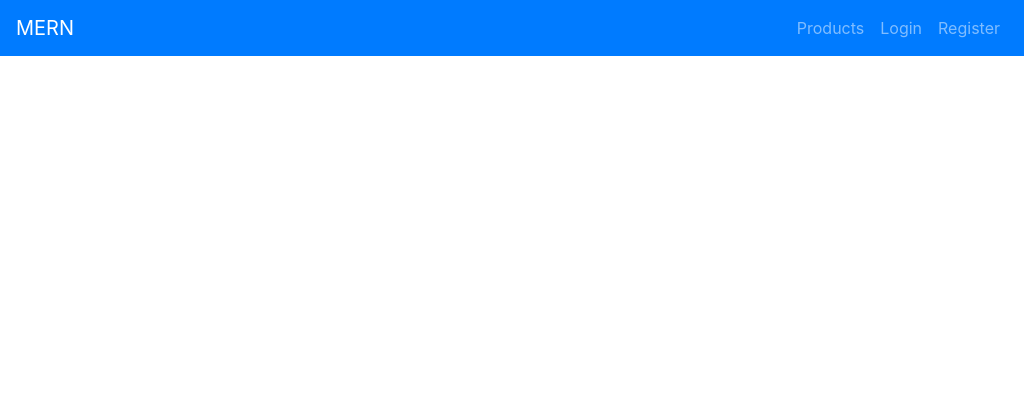
A non registered user interacting with the site › redirects the user to the login page when they click 'Login' on the navbar
Click the link "Login" at (901, 28), box left=880, top=18, right=922, bottom=38
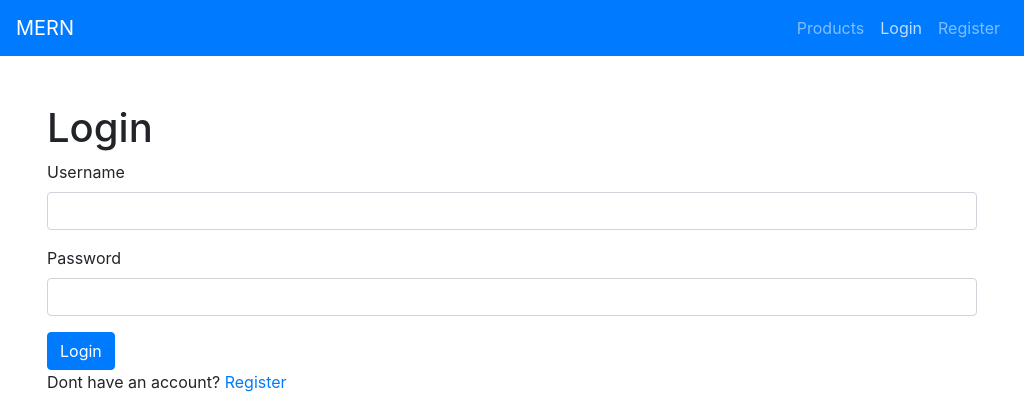
Check: the heading "Login" is shown, box left=47, top=103, right=153, bottom=152
